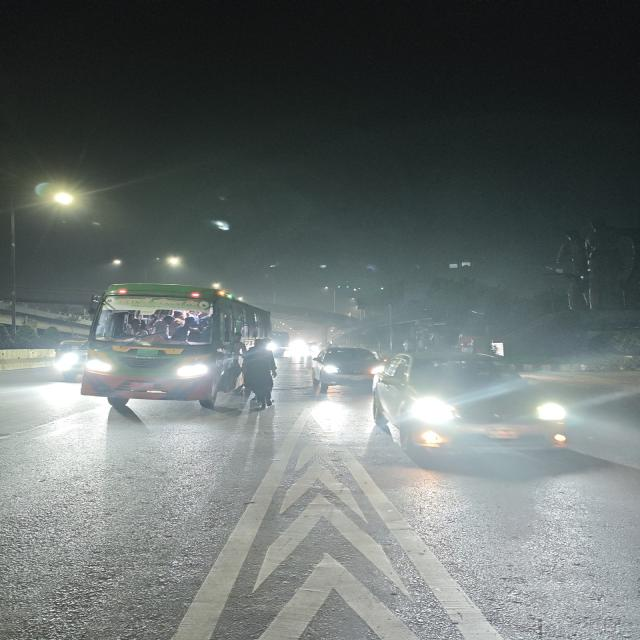bus: (85, 282, 265, 414)
car: (370, 348, 574, 477), (308, 344, 387, 395)
pedestrian: (234, 338, 281, 414)
